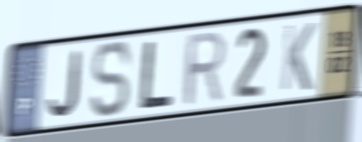2: (232, 25, 268, 100)
J: (46, 48, 84, 120)
K: (278, 20, 318, 94)
L: (137, 38, 175, 112)
R: (182, 27, 228, 110)
S: (90, 38, 134, 121)
